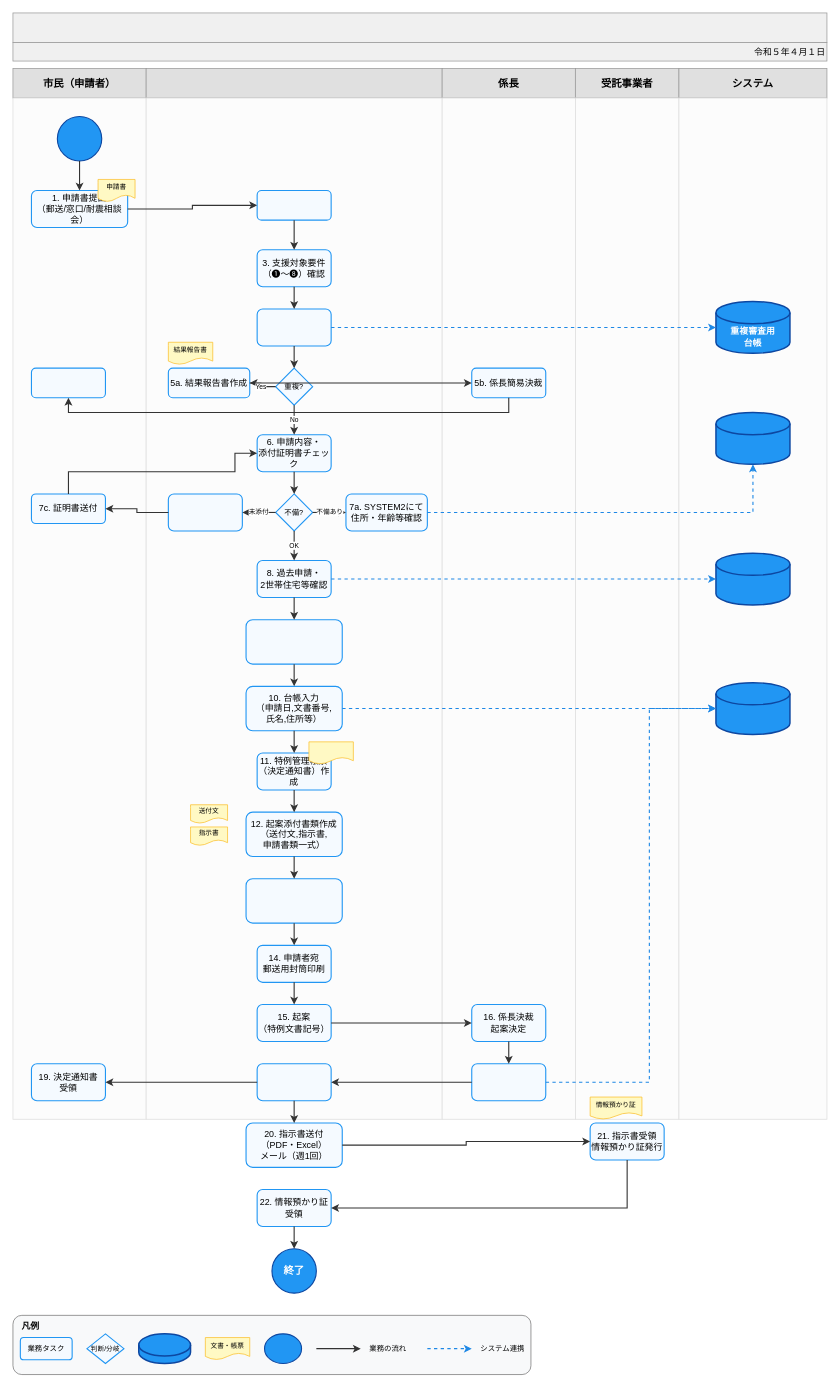
Some shapes in this 840 by 1388 pixel diagram are drawn without their labels. The centre of each missing label's shape, as x and y in pixels:
"13. 決定通知書印刷 （市長公印押印） コピー・ファイル保管" belongs at pixel 293 900.
"17. 台帳に 決定通知日入力" belongs at pixel 508 1082.
"18. 支援決定通知書⑧ ・送付文を郵送" belongs at pixel 293 1082.
"2. 申請書受付け" belongs at pixel 293 205.
"4. 重複審査用台帳 チェック" belongs at pixel 293 327.
"5c. 申請者へ 重複通知" belongs at pixel 68 382.
"7b. 申請者に 証明書送付依頼" belongs at pixel 205 512.
"9. 収受印押印 （特例文書記号） 収受日・台帳連番記入" belongs at pixel 293 641.
"DOCUMENT1" belongs at pixel 752 578.
"SYSTEM2" belongs at pixel 752 438.
"システムDB" belongs at pixel 164 1348.
"地震対策器具取付け支援申請事務処理フロー（受付～施行）" belongs at pixel 419 27.
"担当者" belongs at pixel 293 83.
"決定通知書" belongs at pixel 330 752.
"申請台帳" belongs at pixel 752 708.
"開始" belongs at pixel 79 138.
"開始/終了" belongs at pixel 283 1348.
